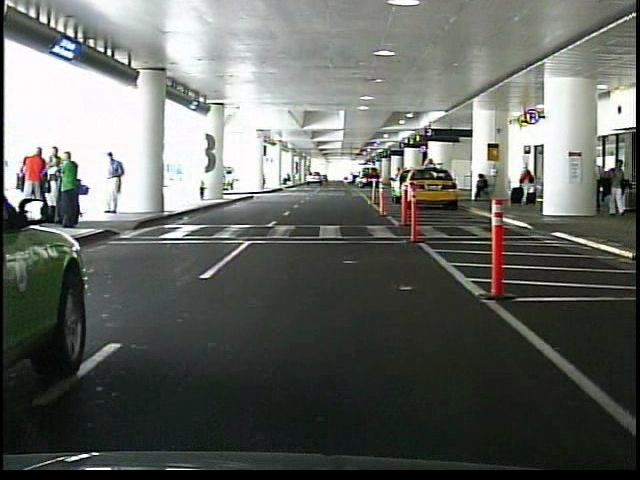person: (60, 150, 85, 230), (102, 151, 128, 217), (602, 155, 627, 218), (28, 147, 50, 204), (51, 144, 66, 212), (519, 160, 536, 206), (473, 171, 492, 201)
